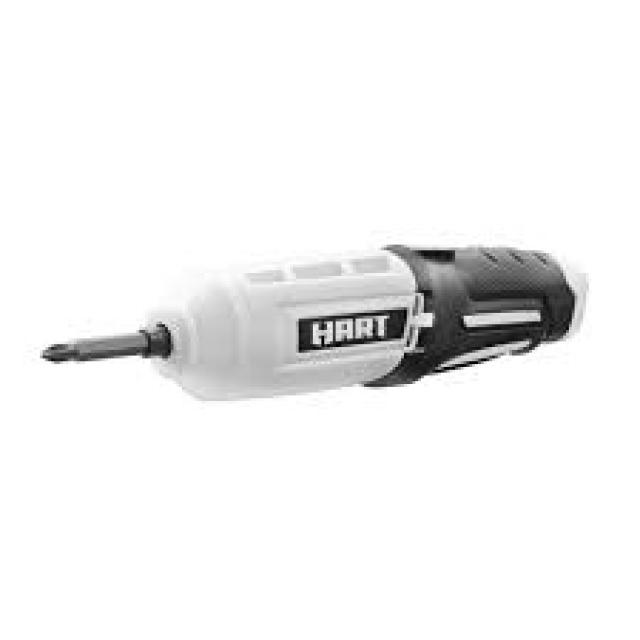drill: (36, 226, 600, 410)
